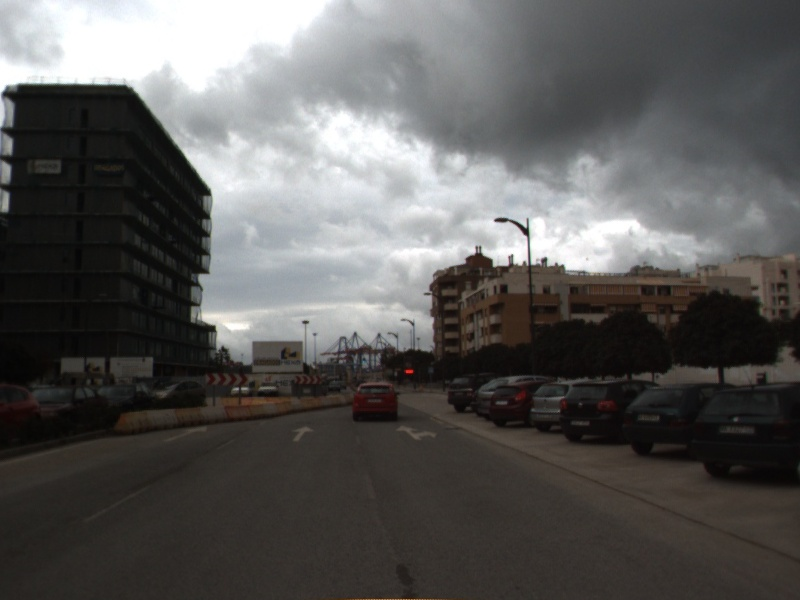STRAIGHT: (161, 422, 209, 444), (290, 424, 317, 443)
STRAIGHT_RIGHT: (393, 422, 440, 442)
